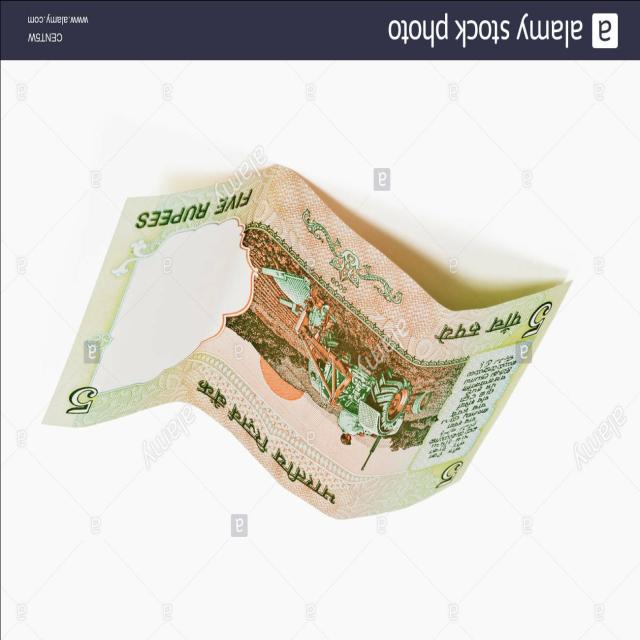5IndianRupees: (44, 161, 548, 525)
